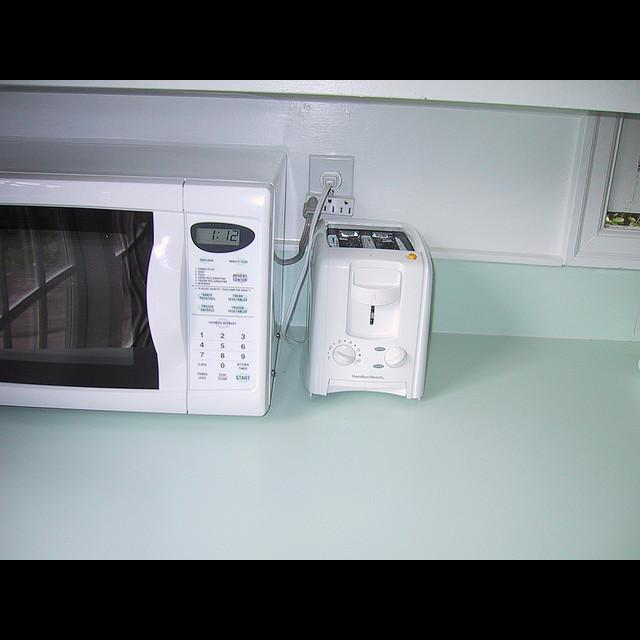Microwave: (3, 136, 291, 419)
